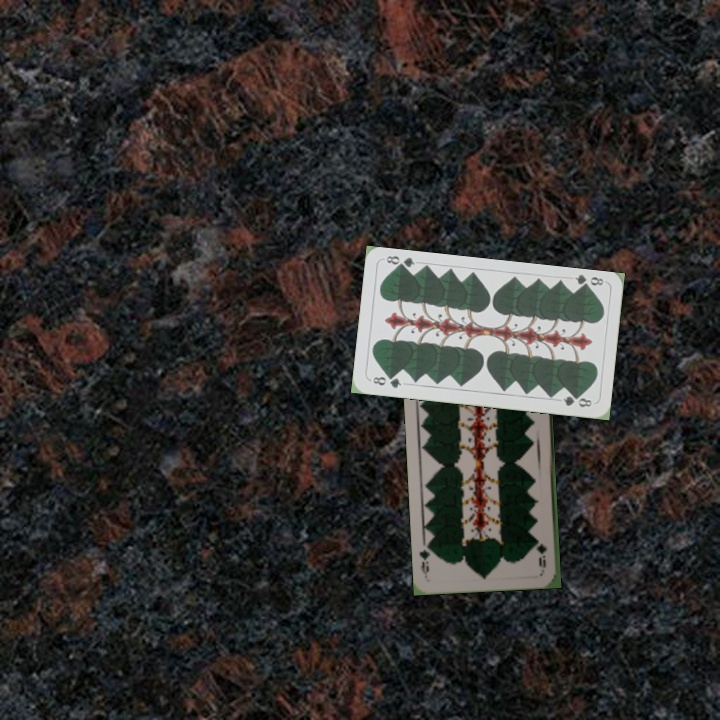G8: (571, 271, 606, 292), (369, 372, 404, 391)
G9: (535, 539, 549, 570)
